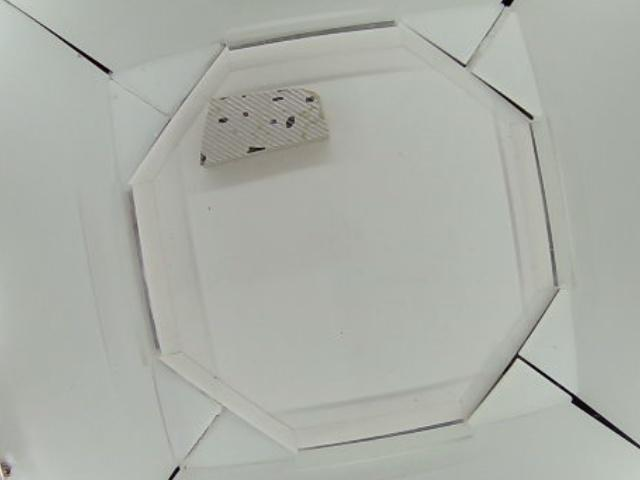China: (199, 87, 326, 169)
